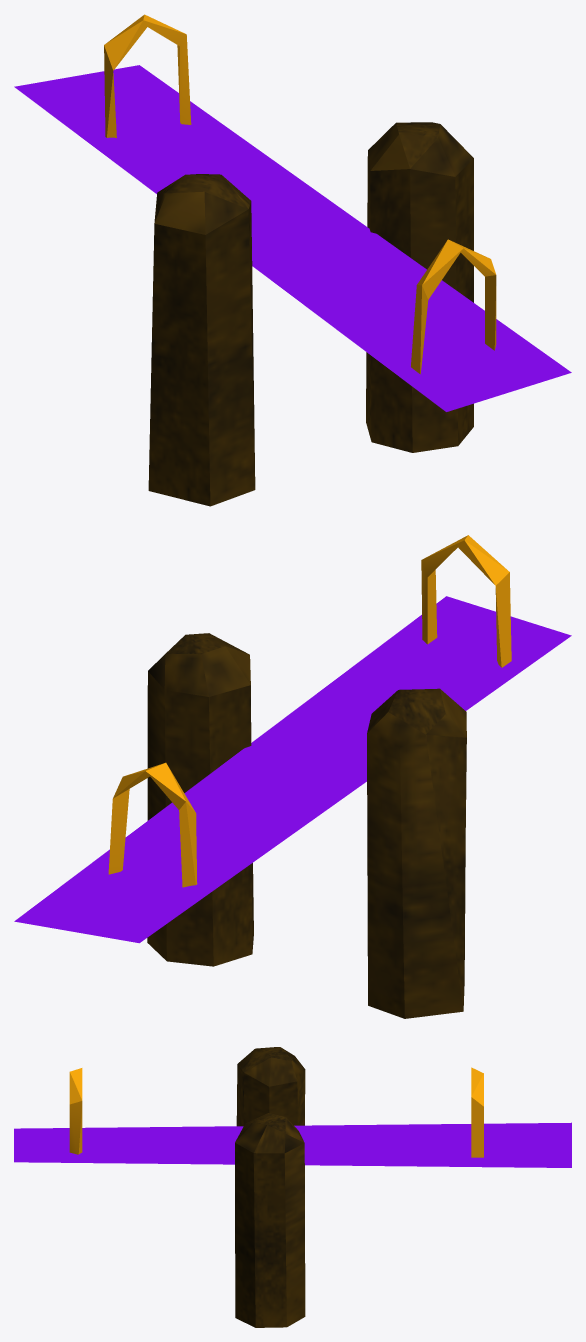
File: GangorraRoxaLOD1 - Copy.fbx
3 renders of one model, top to bottom at view 1: azimuth 30°, elevation 25°; view 2: azimuth 150°, elevation 25°; view 3: azimuth 270°, elevation 25°, orthographic. The views are drawn at different scales.
Visible parts, largest first — view 1: GangorraRoxaLOD1; view 2: GangorraRoxaLOD1; view 3: GangorraRoxaLOD1.
Part boxes in pixels (x1=…): GangorraRoxaLOD1: x1=14, y1=14, x2=571, y2=506; GangorraRoxaLOD1: x1=14, y1=535, x2=571, y2=1018; GangorraRoxaLOD1: x1=14, y1=1047, x2=571, y2=1327.
Bounding box in the file's own units: 64.32 × 64.53 × 156.
